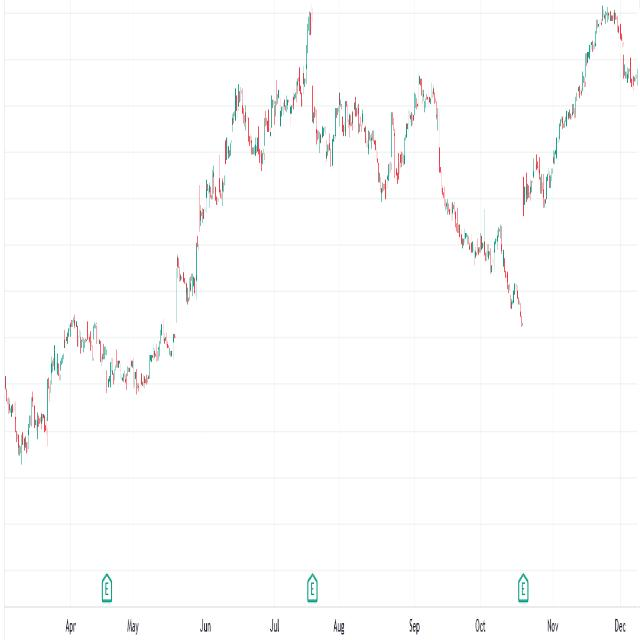Rounding-Bottom: (93, 309, 166, 403)
